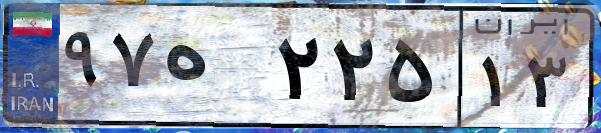1: (475, 38, 525, 113)
2: (270, 28, 330, 110), (330, 28, 385, 110)
3: (525, 38, 570, 115)
5: (385, 28, 445, 110)
7: (110, 28, 158, 98)
9: (57, 26, 110, 100)
ه: (158, 20, 270, 120)
